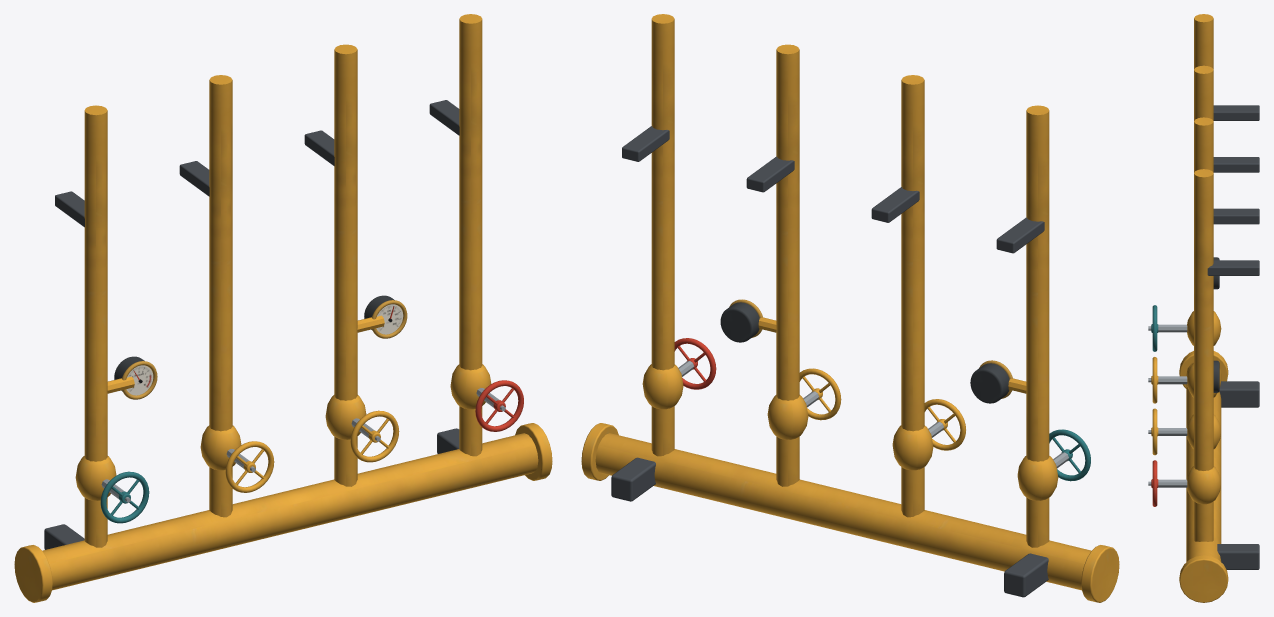
The model's file is ValveManifold.glb.
3 views of the same model, side by side, from view 1: azimuth 30°, elevation 25°; view 2: azimuth 150°, elevation 25°; view 3: azimuth 270°, elevation 25° (orthographic). The views are drawn at different scales.
Visible parts, largest first — view 1: ValveManifold_Body, ValveManifold_Valve4, ValveManifold_Valve3, ValveManifold_Valve2, ValveManifold_Valve1; view 2: ValveManifold_Body, ValveManifold_Valve1, ValveManifold_Valve3, ValveManifold_Valve4, ValveManifold_Valve2; view 3: ValveManifold_Body, ValveManifold_Valve4, ValveManifold_Valve1, ValveManifold_Valve2, ValveManifold_Valve3.
Boxes of the visible parts, <box> form: ValveManifold_Body: <box>14,14,552,602</box>; ValveManifold_Valve4: <box>475,380,523,431</box>; ValveManifold_Valve3: <box>350,410,399,462</box>; ValveManifold_Valve2: <box>225,441,274,492</box>; ValveManifold_Valve1: <box>100,471,149,523</box>; ValveManifold_Body: <box>581,14,1119,602</box>; ValveManifold_Valve1: <box>1049,429,1090,481</box>; ValveManifold_Valve3: <box>799,368,841,420</box>; ValveManifold_Valve4: <box>674,338,716,389</box>; ValveManifold_Valve2: <box>924,399,965,450</box>; ValveManifold_Body: <box>1158,14,1259,602</box>; ValveManifold_Valve4: <box>1148,460,1158,506</box>; ValveManifold_Valve1: <box>1148,305,1158,351</box>; ValveManifold_Valve2: <box>1148,357,1158,403</box>; ValveManifold_Valve3: <box>1148,408,1158,455</box>.
Size of the model in its own units: 1.43 by 1.27 by 0.3192.
10 materials, 6 textured.
